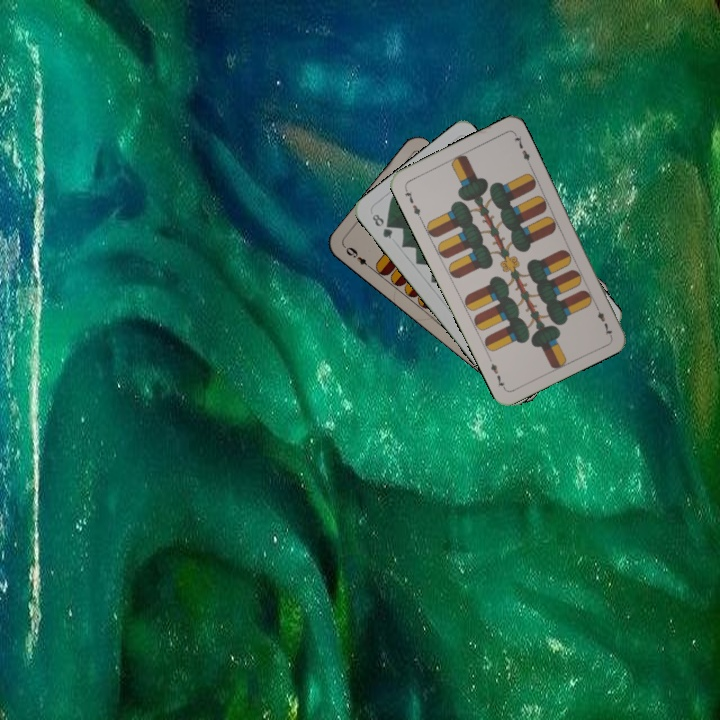E7: (400, 184, 424, 222), (591, 300, 614, 338)
E9: (340, 243, 375, 272)
G8: (368, 210, 395, 242)
